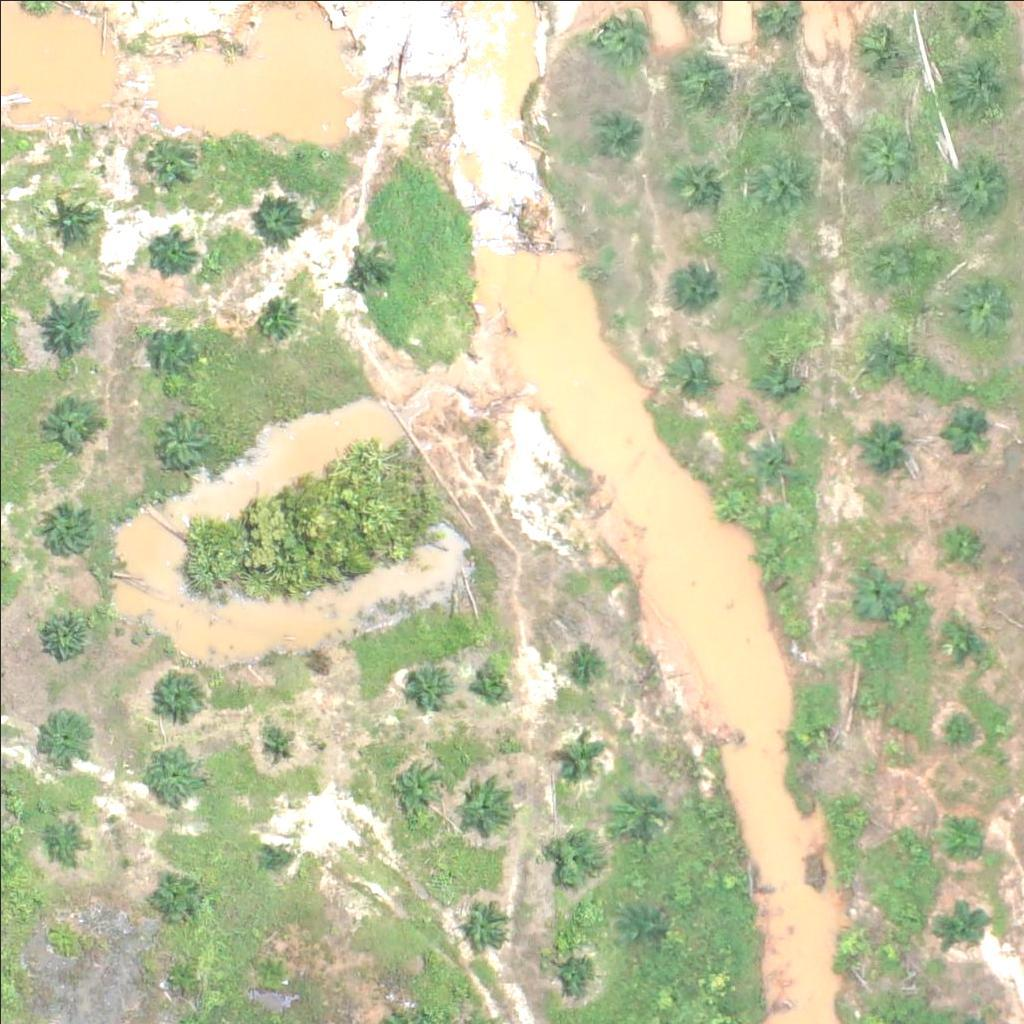Kelapa_Sawit: (866, 221, 929, 284), (751, 245, 814, 308), (753, 148, 816, 211), (666, 52, 729, 115), (752, 67, 815, 130), (37, 289, 100, 352), (386, 756, 449, 819), (945, 274, 1007, 337), (943, 57, 1005, 120), (946, 153, 1008, 216), (857, 115, 919, 178), (852, 17, 914, 80), (667, 157, 729, 220), (147, 660, 209, 723), (143, 742, 205, 805), (453, 774, 515, 837), (50, 396, 100, 447), (39, 710, 89, 761), (156, 411, 206, 462), (145, 328, 195, 379), (145, 230, 195, 281), (45, 191, 95, 242), (42, 609, 92, 660), (149, 873, 199, 924), (940, 615, 990, 666), (663, 259, 713, 309), (856, 428, 906, 478), (938, 403, 988, 453), (749, 433, 799, 483), (850, 564, 900, 614), (753, 348, 803, 398), (667, 349, 717, 399), (45, 507, 95, 557), (254, 191, 304, 241), (595, 8, 645, 58), (585, 113, 635, 163), (143, 130, 193, 180), (251, 295, 301, 345), (342, 239, 392, 289), (859, 324, 909, 374), (548, 939, 598, 989), (550, 830, 600, 880), (461, 897, 511, 947), (401, 661, 451, 711), (936, 896, 986, 946), (938, 806, 988, 856), (612, 780, 662, 830), (48, 817, 86, 855), (753, 538, 791, 576), (941, 527, 979, 565), (563, 737, 601, 775), (562, 646, 600, 684), (475, 663, 513, 701), (849, 686, 887, 724), (839, 799, 877, 837), (833, 924, 871, 962), (257, 726, 294, 764), (786, 724, 823, 762), (252, 951, 290, 988), (623, 904, 660, 942), (160, 956, 197, 994), (940, 706, 977, 743), (263, 842, 288, 867)
